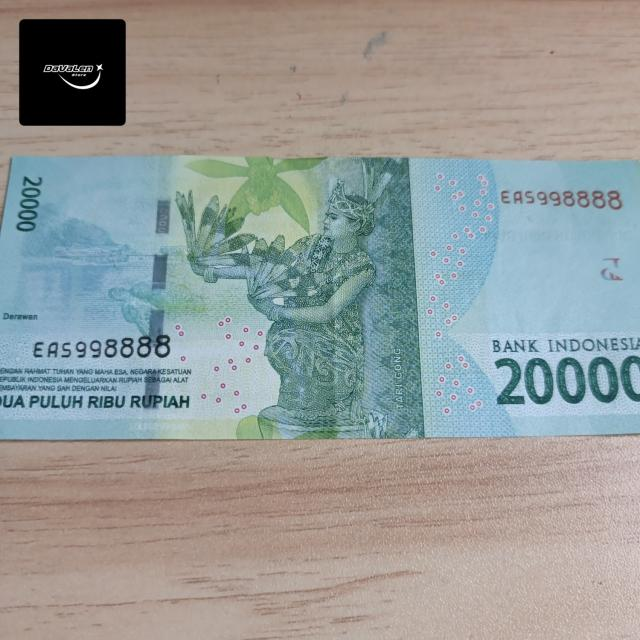dua puluh ribu rupiah: (0, 154, 640, 440)
